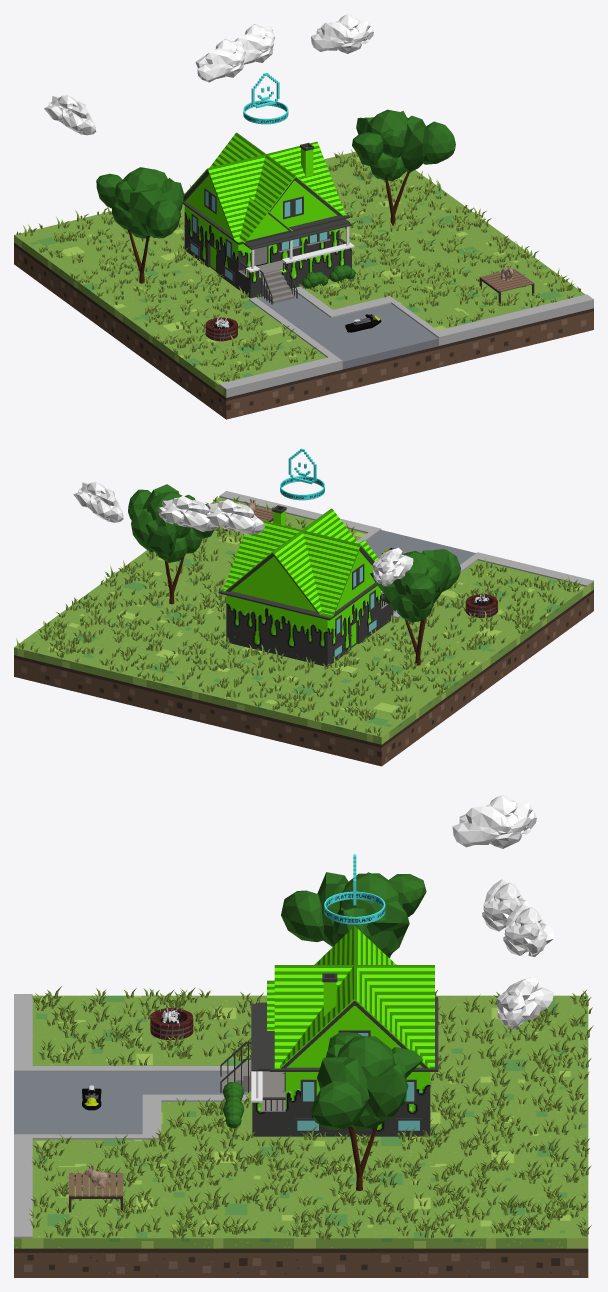
The picture shows the model from 3 angles, top to bottom: view 1: azimuth 30°, elevation 25°; view 2: azimuth 150°, elevation 25°; view 3: azimuth 270°, elevation 25°; orthographic projection. The views are drawn at different scales.
Parts seen in each view (by area): view 1: Cube.006, Cube.754, Circle.012_Grass_0.192, Cube.007, tree, tree.001, TYPE_PREMIUM, Cube.009, OBJRANDOM_CAMPFIRE; view 2: Cube.006, Cube.754, Circle.012_Grass_0.192, Cube.007, tree.001, tree, TYPE_PREMIUM, OBJRANDOM_CAMPFIRE; view 3: Cube.006, Circle.012_Grass_0.192, Cube.754, tree, Cube.007, tree.001, OBJRANDOM_CAMPFIRE, TYPE_PREMIUM, Cube.009.
Boxes of the visible parts, bbox=[...] form: Cube.006: bbox=[14, 151, 593, 419]; Cube.754: bbox=[183, 132, 354, 304]; Circle.012_Grass_0.192: bbox=[16, 149, 580, 381]; Cube.007: bbox=[44, 14, 373, 135]; tree: bbox=[352, 109, 455, 225]; tree.001: bbox=[96, 167, 184, 283]; TYPE_PREMIUM: bbox=[243, 72, 288, 124]; Cube.009: bbox=[479, 268, 534, 303]; OBJRANDOM_CAMPFIRE: bbox=[205, 316, 237, 341]; Cube.006: bbox=[14, 491, 593, 766]; Cube.754: bbox=[218, 505, 393, 666]; Circle.012_Grass_0.192: bbox=[16, 496, 580, 736]; Cube.007: bbox=[73, 481, 413, 586]; tree.001: bbox=[370, 549, 460, 665]; tree: bbox=[128, 484, 214, 604]; TYPE_PREMIUM: bbox=[280, 448, 324, 500]; OBJRANDOM_CAMPFIRE: bbox=[465, 592, 497, 617]; Cube.006: bbox=[14, 994, 588, 1277]; Circle.012_Grass_0.192: bbox=[29, 986, 593, 1239]; Cube.754: bbox=[220, 926, 438, 1136]; tree: bbox=[311, 1032, 422, 1190]; Cube.007: bbox=[452, 795, 553, 1029]; tree.001: bbox=[281, 872, 426, 957]; OBJRANDOM_CAMPFIRE: bbox=[150, 1006, 193, 1039]; TYPE_PREMIUM: bbox=[324, 854, 385, 924]; Cube.009: bbox=[69, 1172, 122, 1212].
Size of the model in its own units: 4071 by 2317 by 4040.
34 materials, 5 textured.
